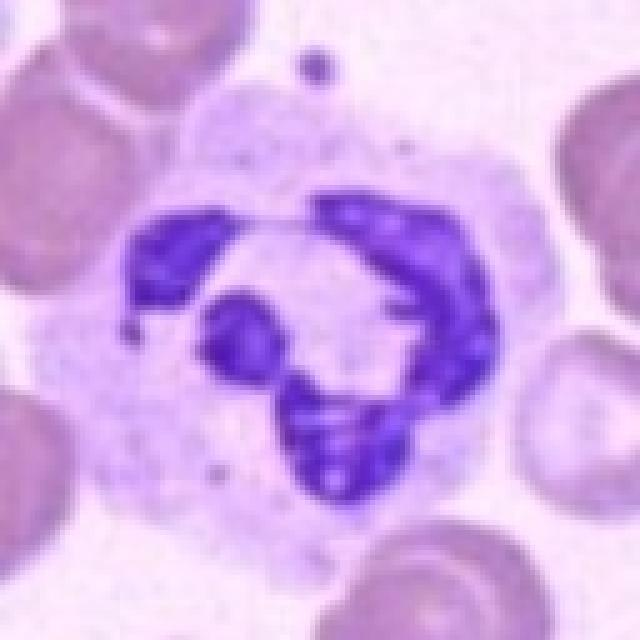neutro: (95, 122, 585, 526)
